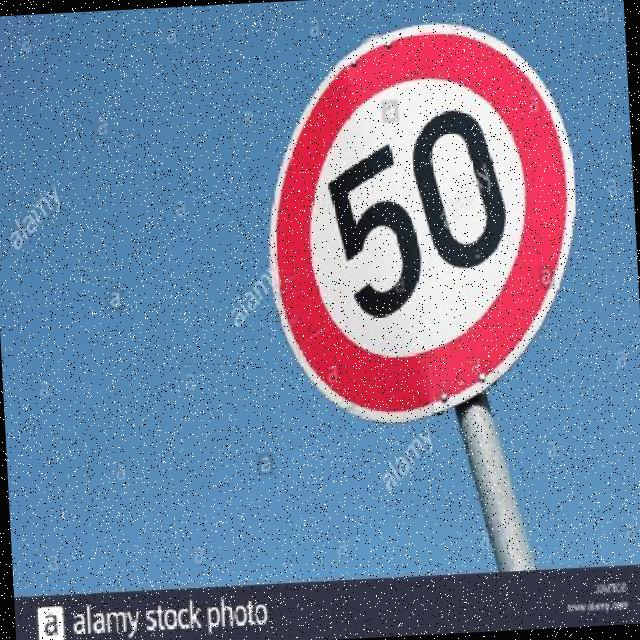Ograniczenie predkosci do 50: (263, 18, 582, 426)
